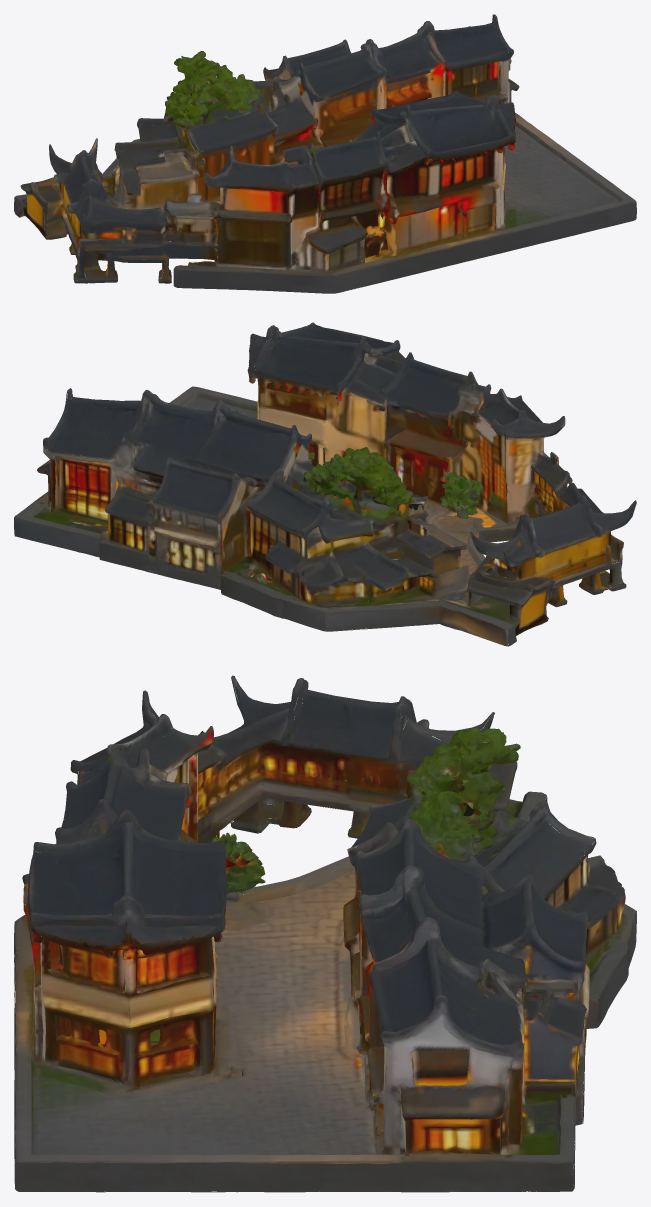
Rendered from yishang.glb.
The picture shows the model from 3 angles, top to bottom: view 1: azimuth 30°, elevation 25°; view 2: azimuth 150°, elevation 25°; view 3: azimuth 270°, elevation 25°; orthographic projection. The views are drawn at different scales.
Visible parts, largest first — view 1: yishang_lux3d; view 2: yishang_lux3d; view 3: yishang_lux3d.
Boxes of the visible parts, x1,y1,x2,y2 form: yishang_lux3d: [14, 14, 636, 293]; yishang_lux3d: [14, 322, 636, 646]; yishang_lux3d: [14, 675, 636, 1192].
Size of the model in its own units: 6 by 1.63 by 4.04.
Materials: 1 (1 with a texture image).
